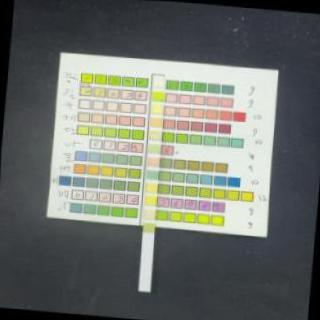mark: (142, 222, 154, 234), (146, 156, 159, 167), (148, 118, 162, 128), (148, 131, 162, 141), (142, 196, 156, 206), (147, 144, 160, 154), (152, 91, 164, 101), (145, 170, 157, 180), (144, 182, 156, 192), (150, 105, 162, 114), (142, 210, 154, 219), (152, 80, 164, 88)
